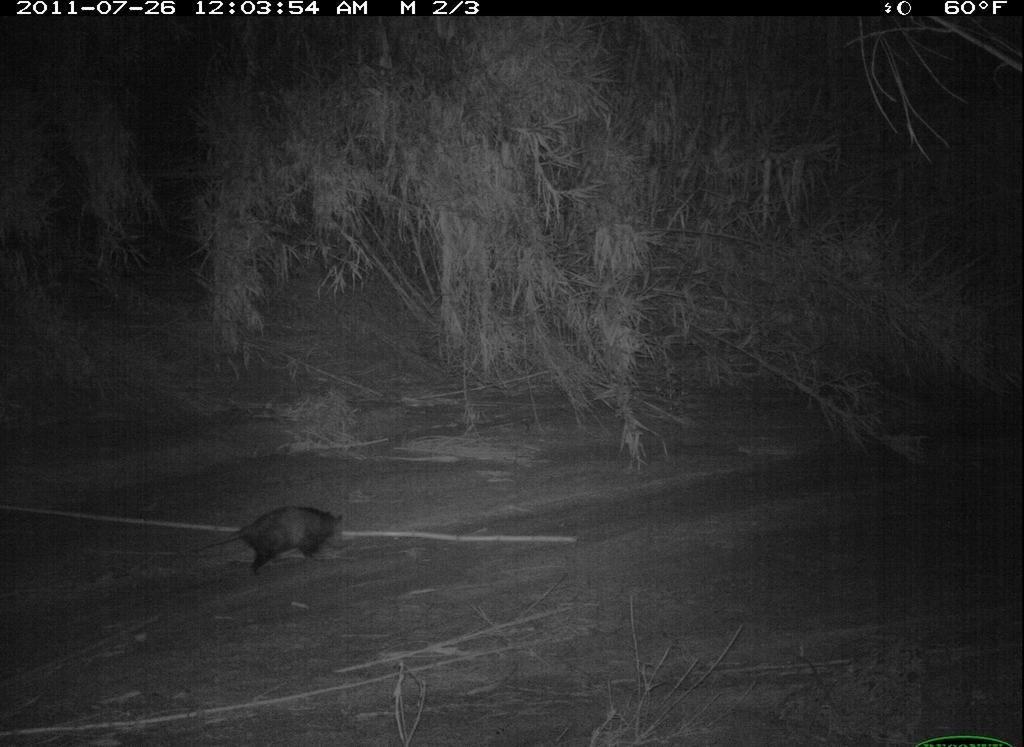opossum: (180, 488, 359, 592)
